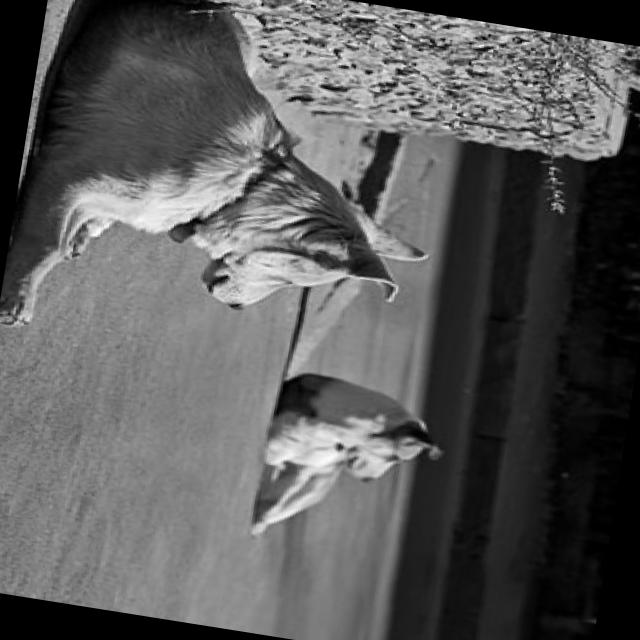laying down: (0, 0, 466, 392), (245, 362, 455, 570)
